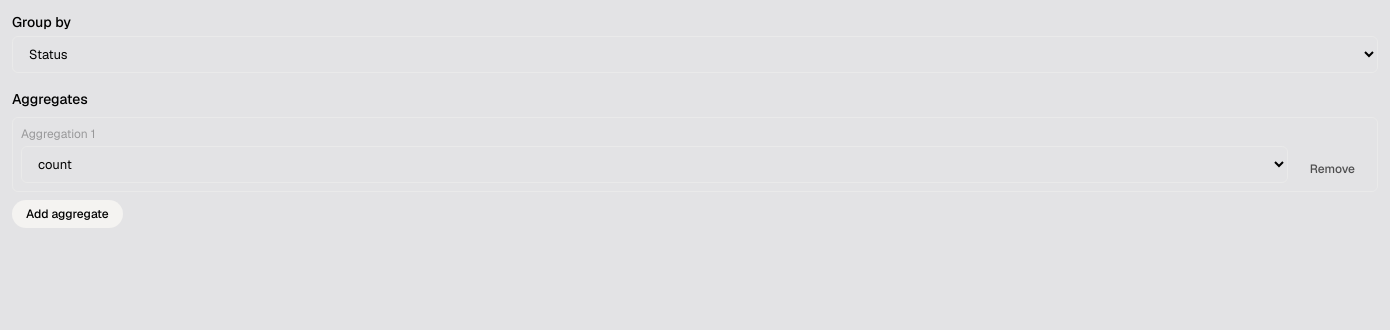
Scenario: GroupedListConfig › adds and removes aggregate rows
Expected: the dropdown labelled "Aggregation 1" is shown, [21,146,1288,183]
Expected: the field labelled "Aggregation 2" is not shown
# Add a row.
Click the button "Add aggregate".
click(67, 214)  # box [12,200,123,228]
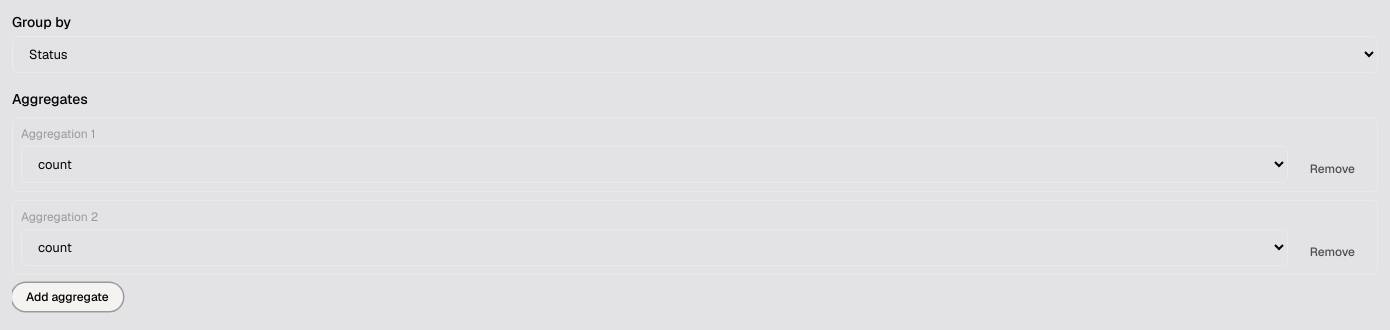
Now the dropdown labelled "Aggregation 2" is shown, box [21,229,1288,266]
# Remove the second row.
Click the button with aria-label "Remove aggregate 2".
click(1332, 252)  # box [1296,238,1369,266]
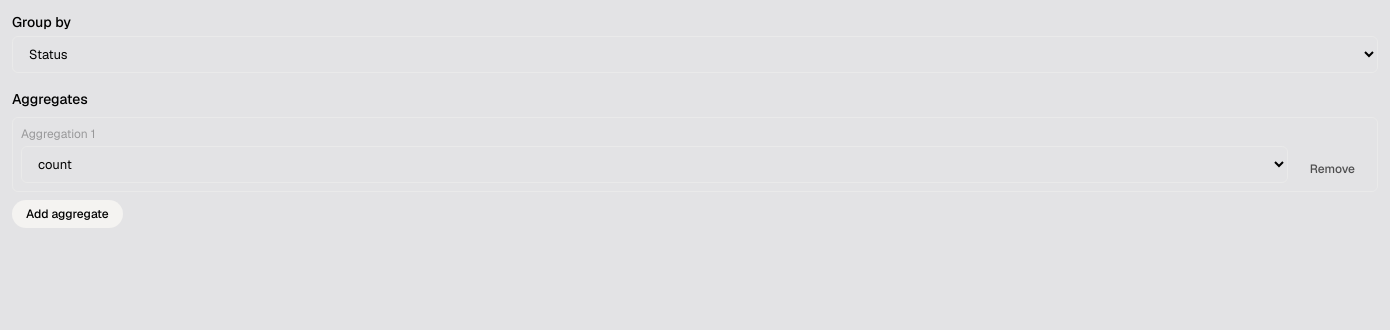
Now the label labelled "Aggregation 2" is gone
